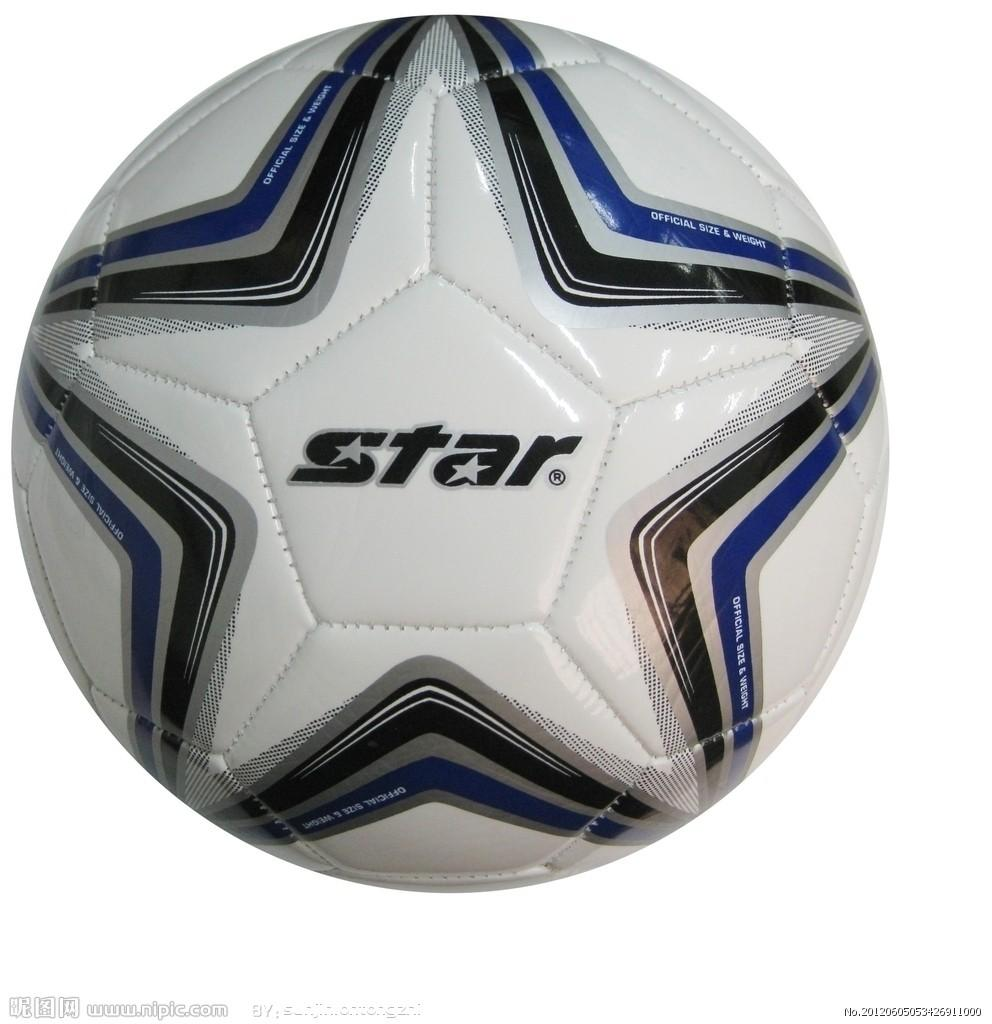football: (1, 11, 907, 899)
